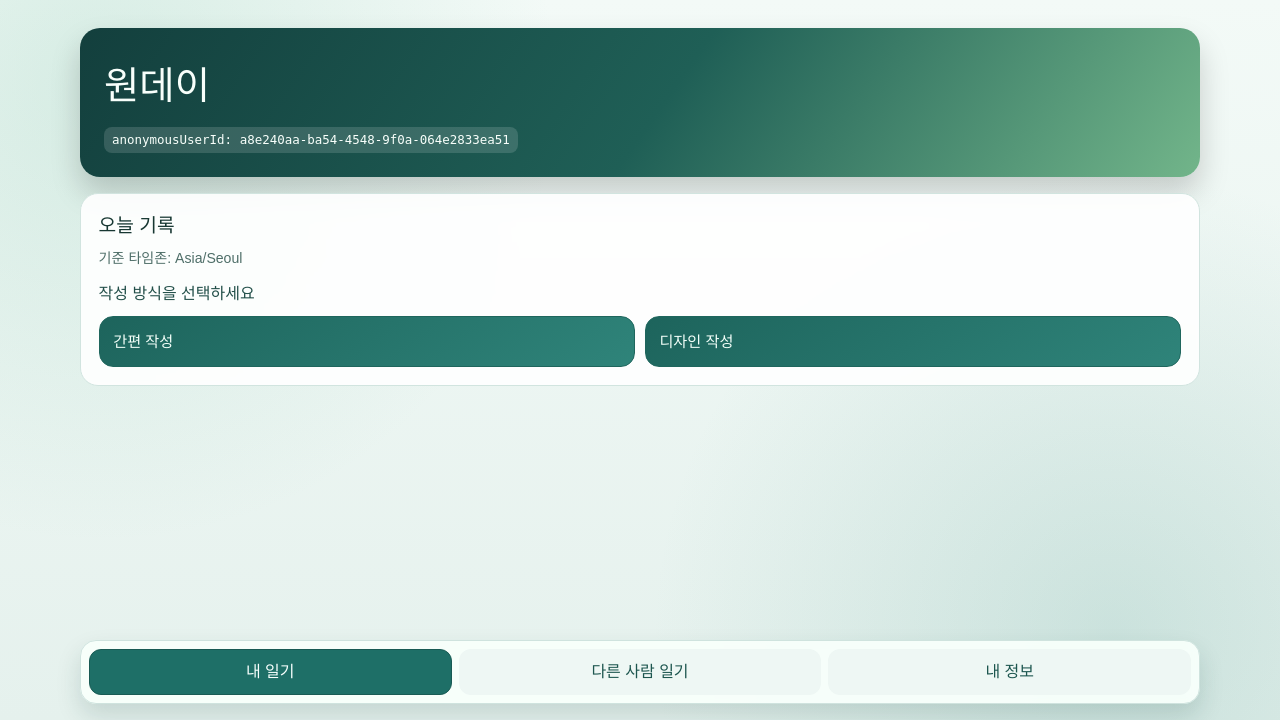
Test case: App integration › shows the current streak title in my information
Click the button "내 정보" at (1010, 672), box x1=828 y1=649 x2=1191 y2=695
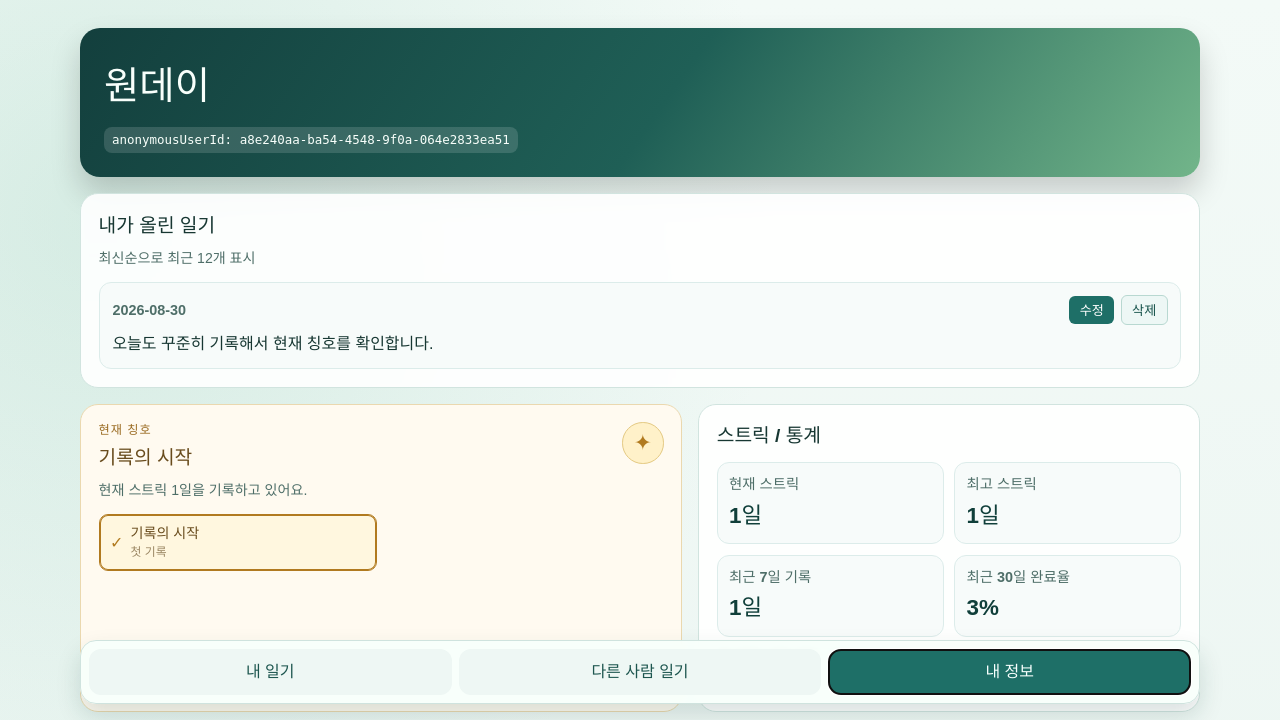
Now the heading "기록의 시작" is shown, box x1=99 y1=444 x2=192 y2=472
Now the element named "칭호 목록" is shown, box x1=99 y1=514 x2=377 y2=571
